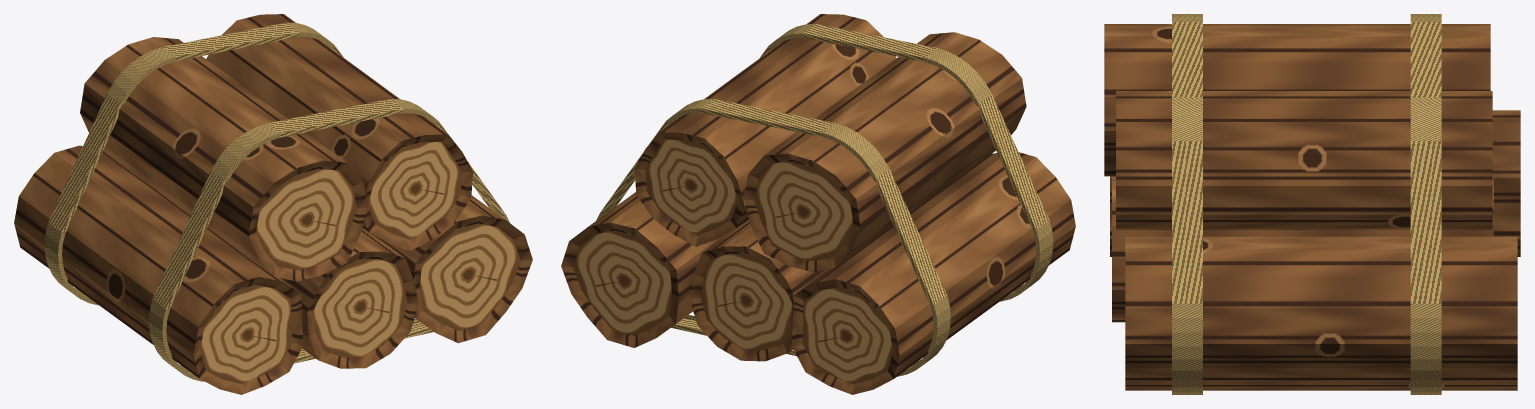
The picture shows the model from 3 angles, left to right: view 1: azimuth 30°, elevation 25°; view 2: azimuth 150°, elevation 25°; view 3: azimuth 270°, elevation 25°; orthographic projection. The views are drawn at different scales.
Visible parts, largest first — view 1: 목재; view 2: 목재; view 3: 목재.
Part boxes in pixels (x1=…): 목재: x1=14, y1=14, x2=532, y2=394; 목재: x1=561, y1=14, x2=1075, y2=394; 목재: x1=1104, y1=14, x2=1520, y2=394.
Size of the model in its own units: 105 by 67.52 by 94.21.
3 materials, 3 textured.
